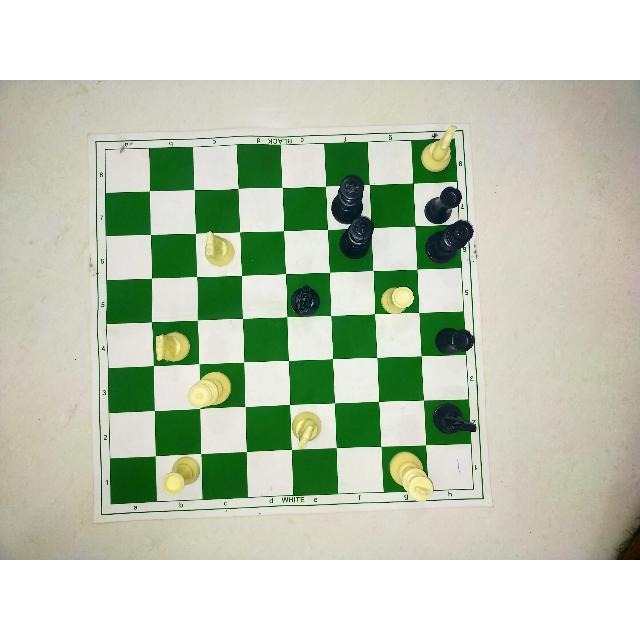black-king: (328, 174, 375, 226), (337, 212, 379, 266)
black-knight: (426, 398, 480, 444), (286, 282, 326, 320)
black-queen: (419, 216, 477, 270)
black-rook: (425, 321, 480, 361), (423, 184, 467, 224)
white-king: (381, 448, 436, 509)
white-knight: (416, 118, 460, 174), (151, 323, 195, 367), (290, 403, 328, 453), (198, 223, 235, 273)
white-queen: (182, 367, 235, 410)
white-rook: (159, 452, 203, 500), (375, 281, 419, 321)
